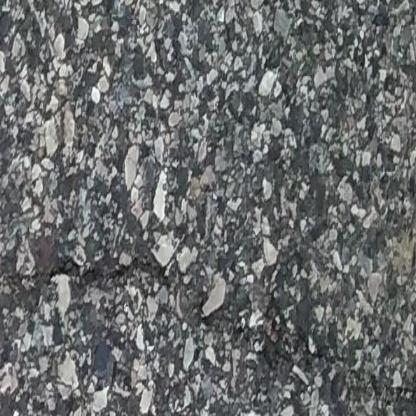Cracks: (0, 241, 353, 372)
